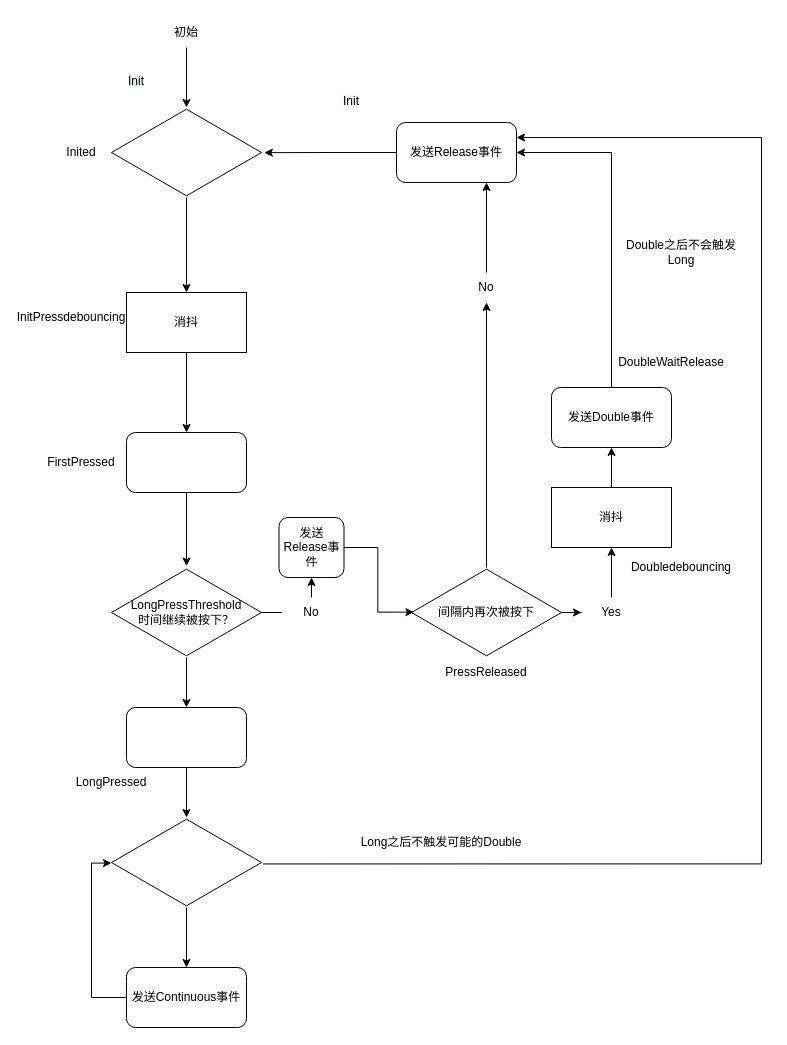
Some shapes in this 787 by 1045 pixel diagram are drawn without their labels. Each missing label, with the box of its shape:
发送Long事件: (126, 706, 246, 768)
发送Pressed事件: (126, 432, 246, 492)
处于按下状态？: (110, 106, 262, 198)
继续被按下？: (110, 816, 262, 908)
